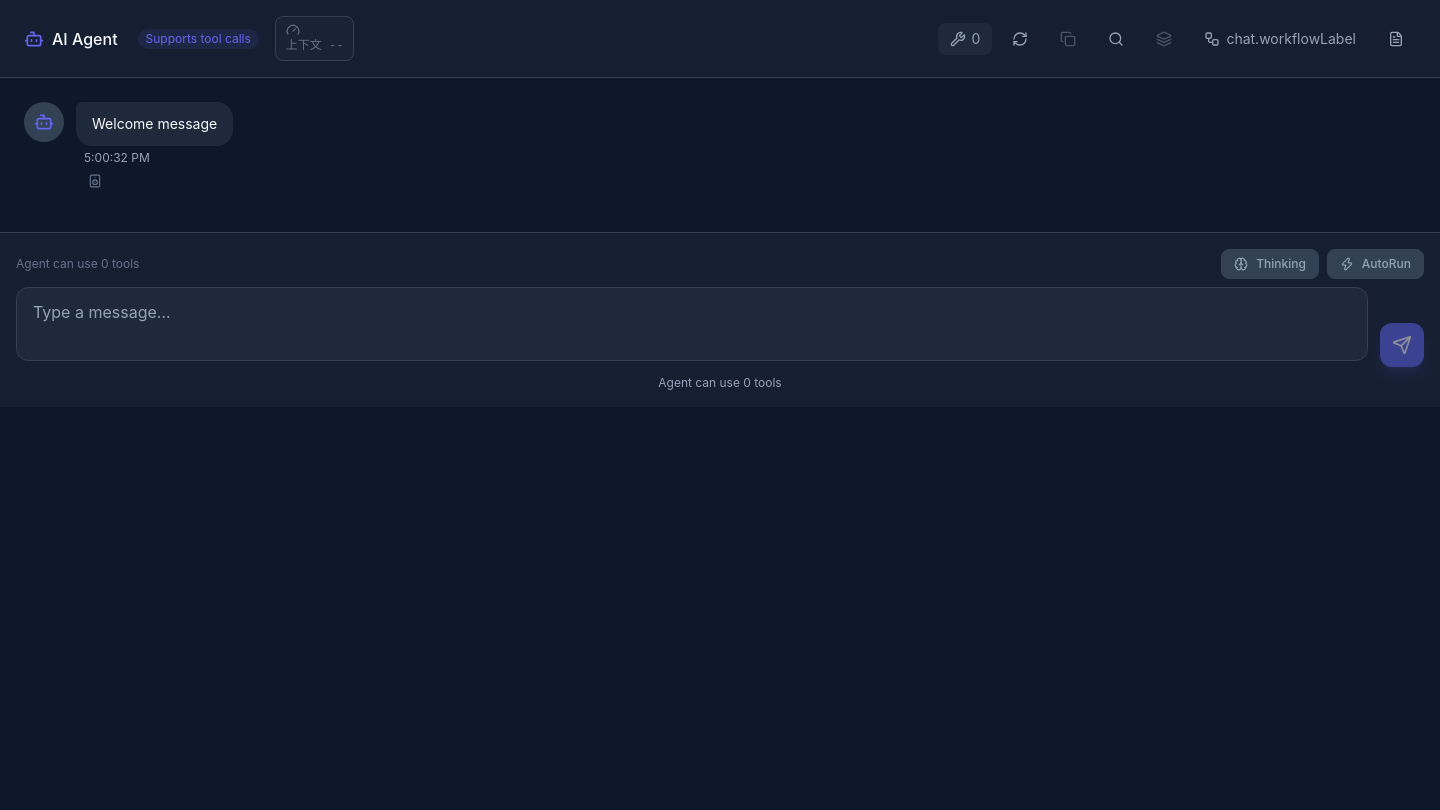
Test case: AgentChat › renders an approval_pending event and shows the approval card
The width and height of the screenshot is (1440, 810).
Type "write" into the text box with placeholder "Type a message…". click: [692, 324]
box: [16,287,1368,361]
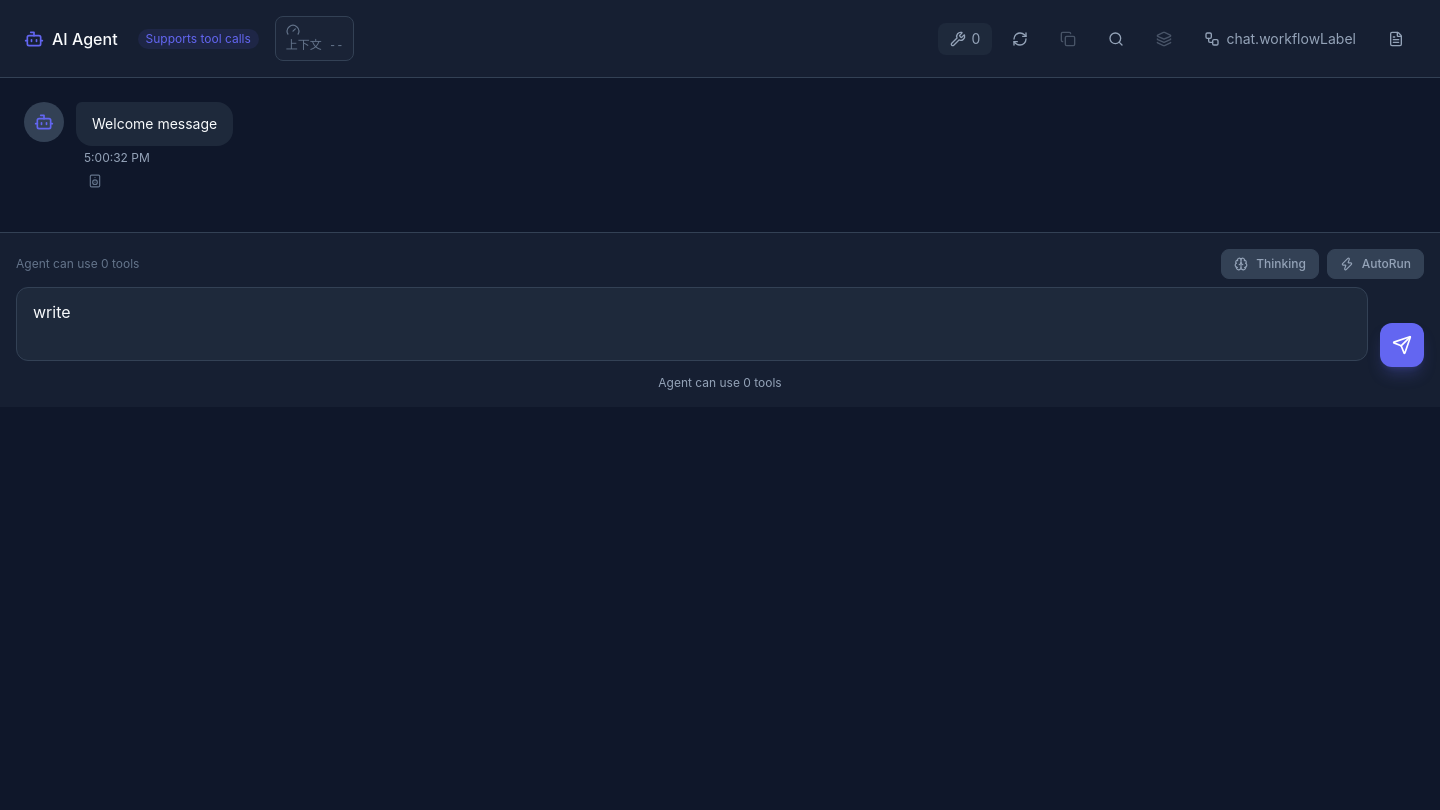
Click the button titled "Send". click: [1402, 345]
box: [1380,323,1424,367]
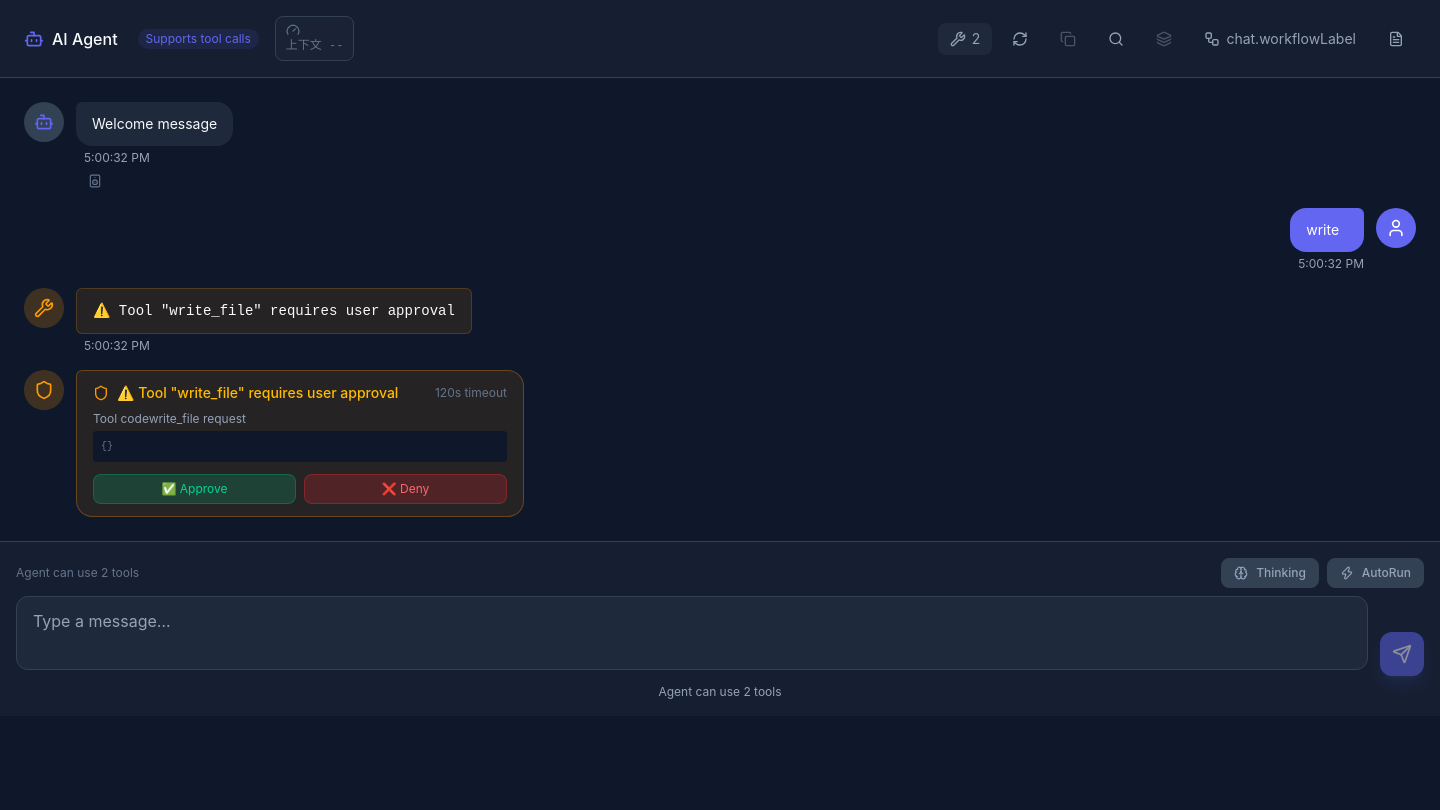
Now the 1st text "⚠️ Tool \"write_file\" requires user approval" is shown, box [93,301,455,321]
